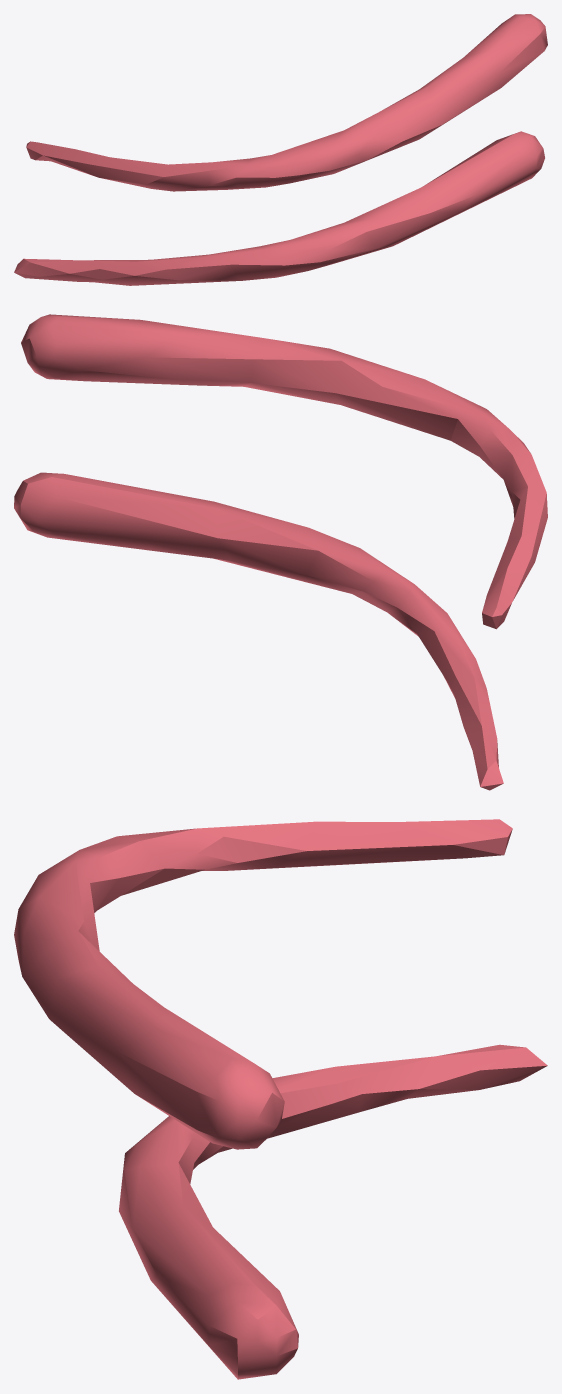
The model's file is fma50566_fj5125.glb.
The picture shows the model from 3 angles, top to bottom: view 1: azimuth 30°, elevation 25°; view 2: azimuth 150°, elevation 25°; view 3: azimuth 270°, elevation 25°; orthographic projection. The views are drawn at different scales.
Visible parts, largest first — view 1: FMA50566_FJ5125; view 2: FMA50566_FJ5125; view 3: FMA50566_FJ5125.
Boxes of the visible parts, x1,y1,x2,y2 form: FMA50566_FJ5125: [14, 14, 547, 285]; FMA50566_FJ5125: [14, 314, 547, 790]; FMA50566_FJ5125: [14, 819, 547, 1379].
Bounding box in the file's own units: 0.00972 × 0.00441 × 0.0053.
